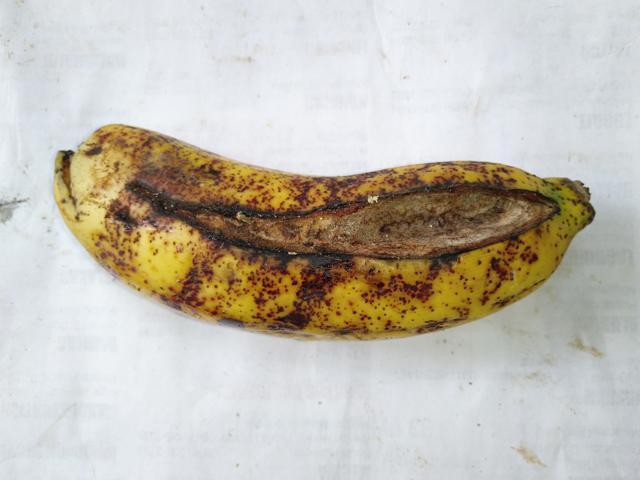rotten: (93, 115, 564, 290)
